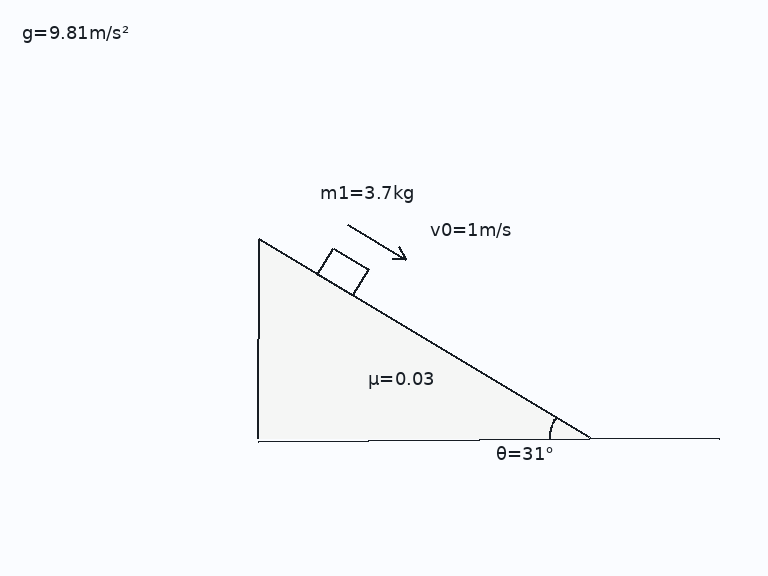block: (314, 245, 370, 297)
ramp: (256, 237, 592, 440)
